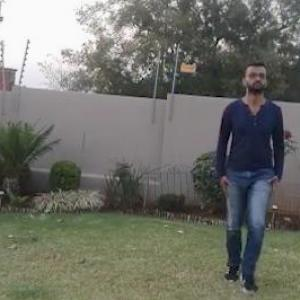follow: (200, 51, 286, 292)
